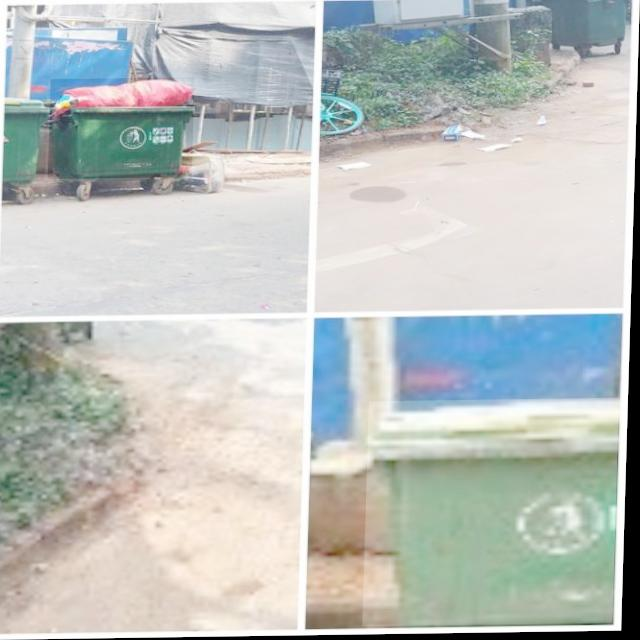garbage: (439, 114, 549, 152)
garbage_bin: (366, 400, 621, 628), (2, 97, 48, 182)
overflow: (49, 78, 195, 180)
